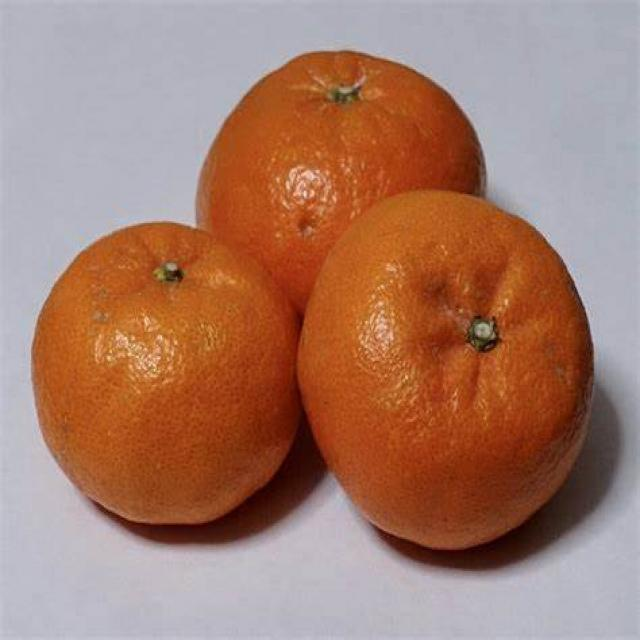Orange: (296, 189, 596, 550), (25, 217, 306, 528), (190, 44, 498, 319)
